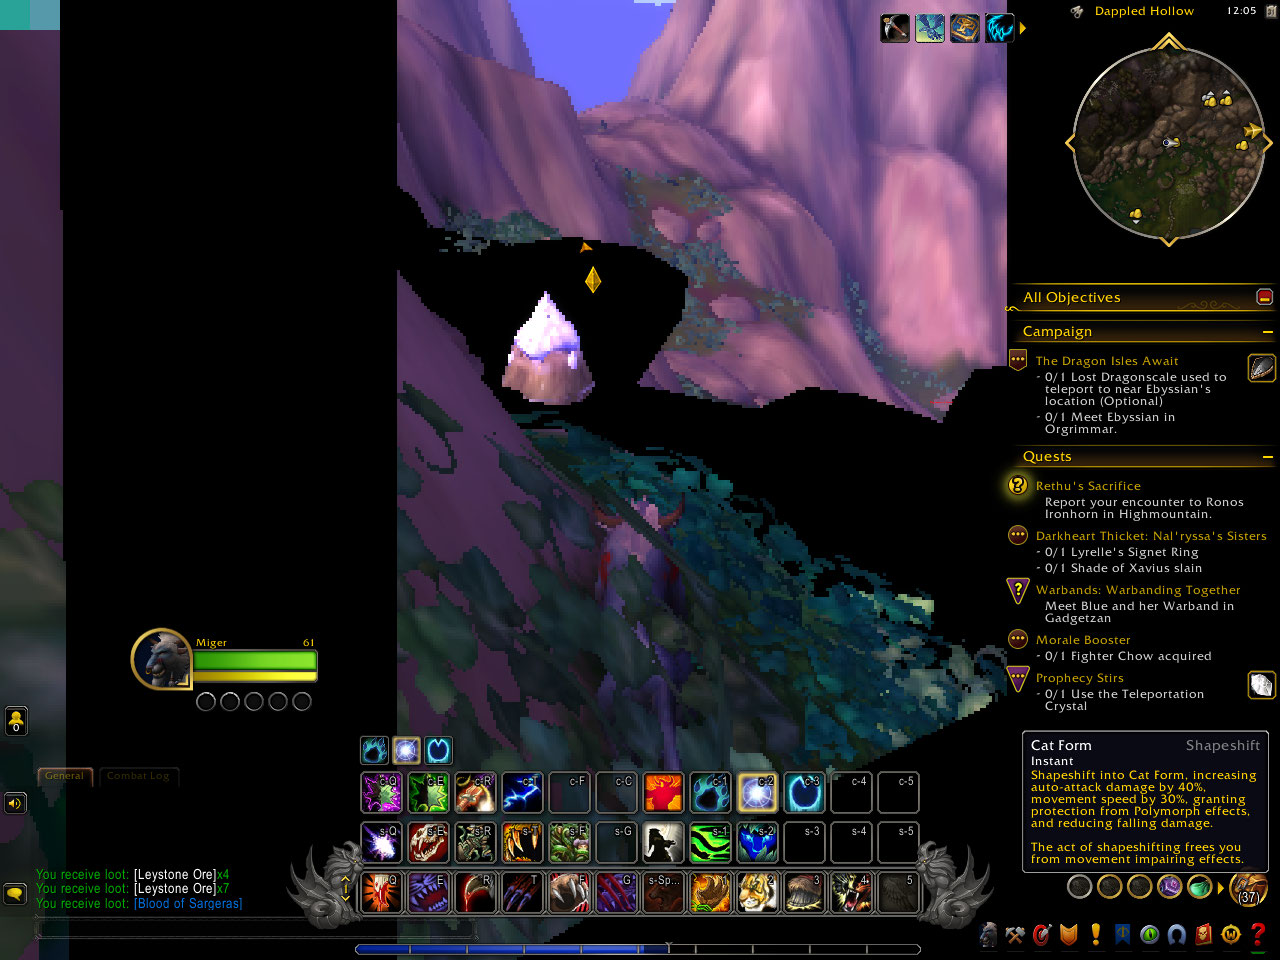ore: (498, 292, 596, 412)
